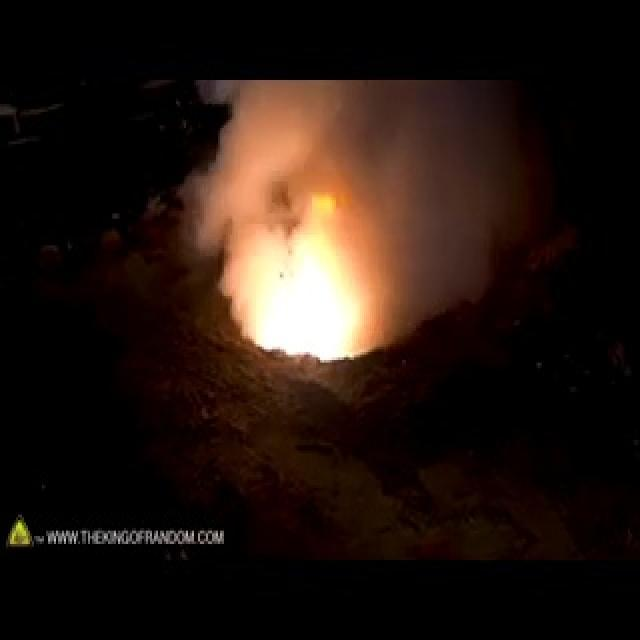fire: (218, 212, 368, 378)
